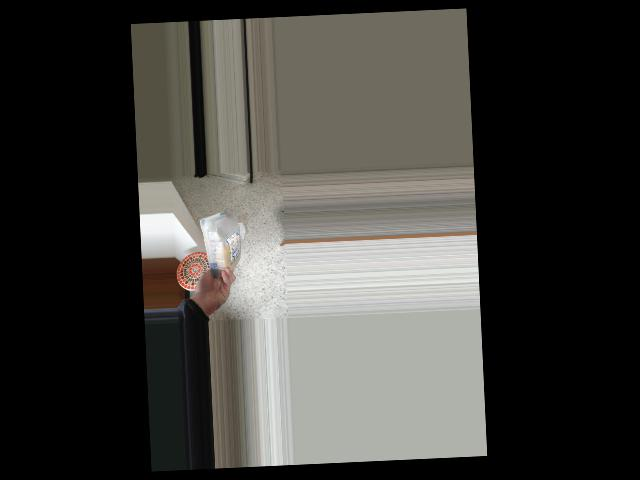cheese: (202, 209, 242, 276)
